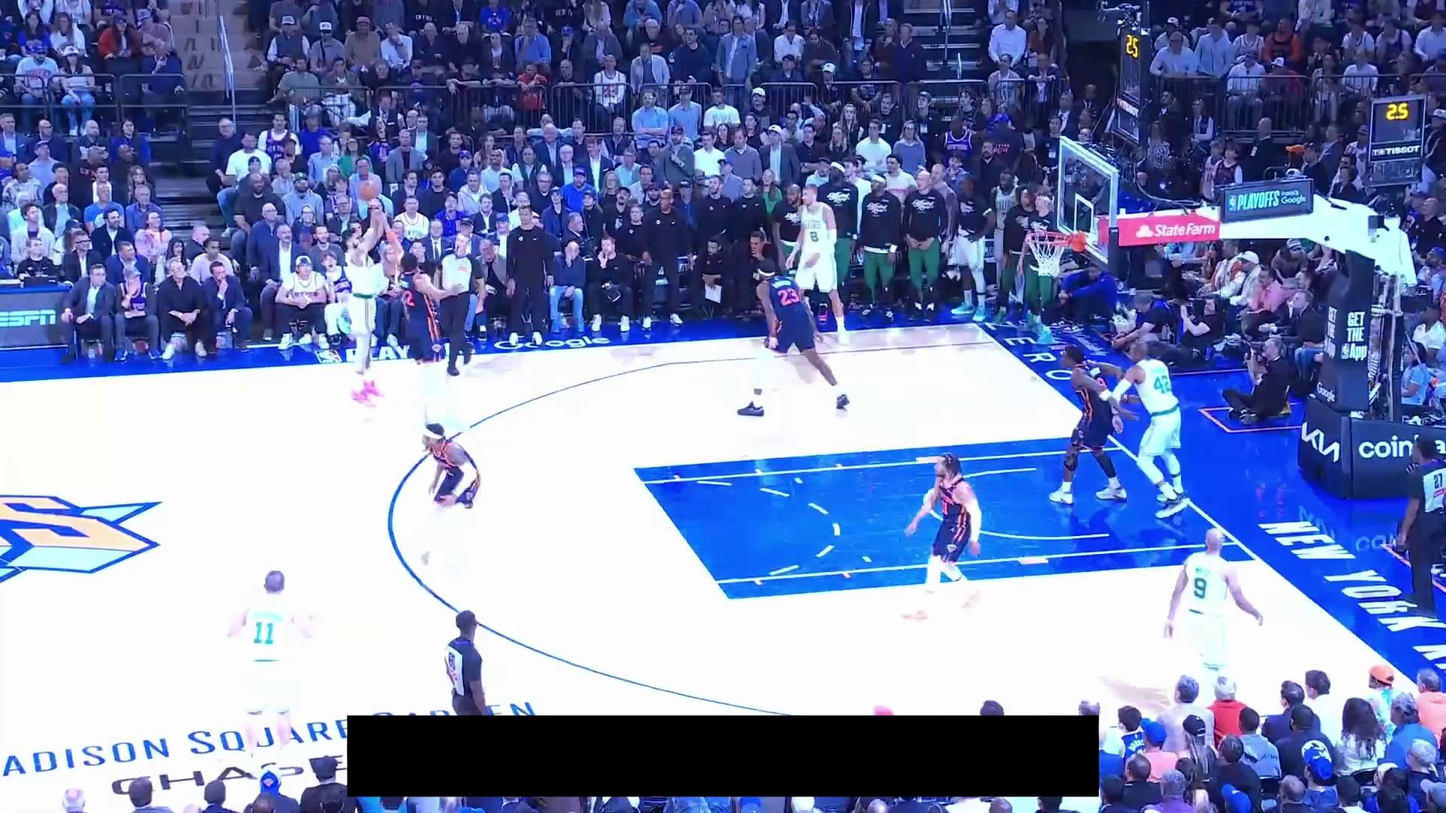ball: (356, 179, 379, 202)
number: (252, 620, 276, 646), (1152, 374, 1171, 395), (778, 288, 800, 306), (1193, 577, 1207, 599), (941, 499, 949, 516), (809, 230, 819, 242)
player: (1156, 523, 1269, 706), (227, 567, 321, 776), (734, 256, 852, 421), (1045, 341, 1142, 507), (898, 446, 988, 623), (1110, 334, 1193, 519), (409, 419, 487, 573), (784, 182, 849, 347)
player-jump-shot: (343, 208, 387, 409)
player-shot-block: (373, 209, 472, 435)
referee: (1392, 434, 1446, 619), (442, 608, 496, 715), (434, 231, 473, 377)
rim: (1027, 230, 1071, 245)
